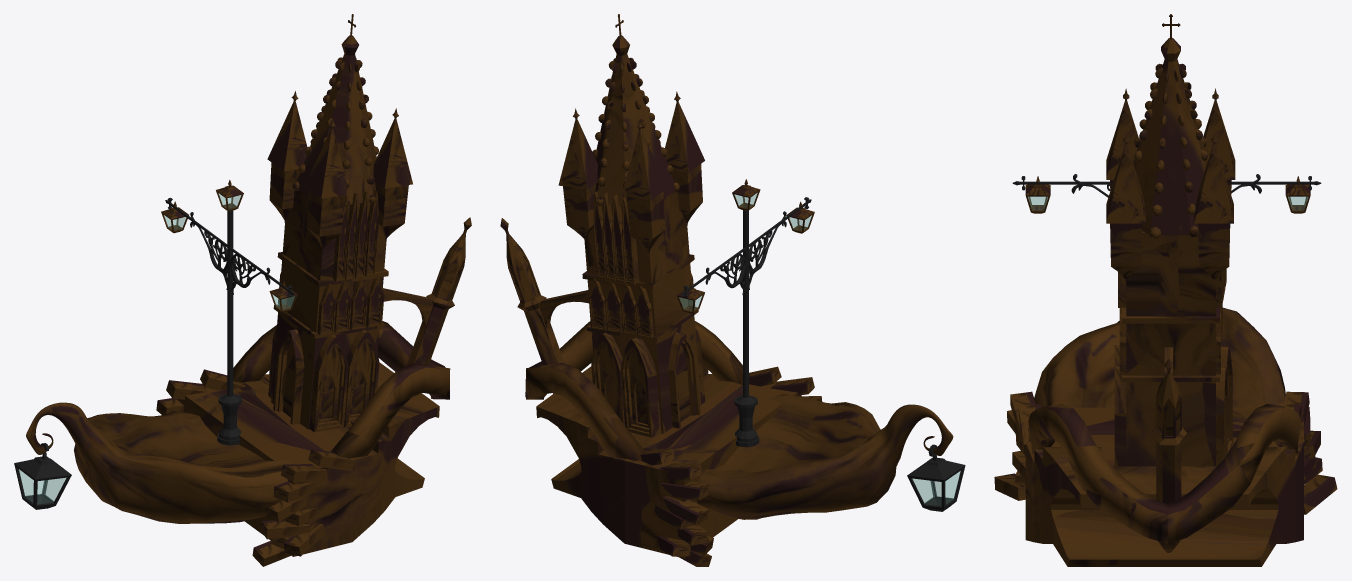
Rendered from Barco_Gotico.fbx.
The picture shows the model from 3 angles, left to right: view 1: azimuth 30°, elevation 25°; view 2: azimuth 150°, elevation 25°; view 3: azimuth 270°, elevation 25°; orthographic projection. The views are drawn at different scales.
Visible parts, largest first — view 1: RAICES_low; view 2: RAICES_low; view 3: RAICES_low.
Part boxes in pixels (<box>): RAICES_low: <box>14,14,471,566</box>; RAICES_low: <box>500,14,965,566</box>; RAICES_low: <box>994,14,1337,566</box>.
Size of the model in its own units: 2.68 by 2.74 by 1.49.
17 materials, 15 textured.
